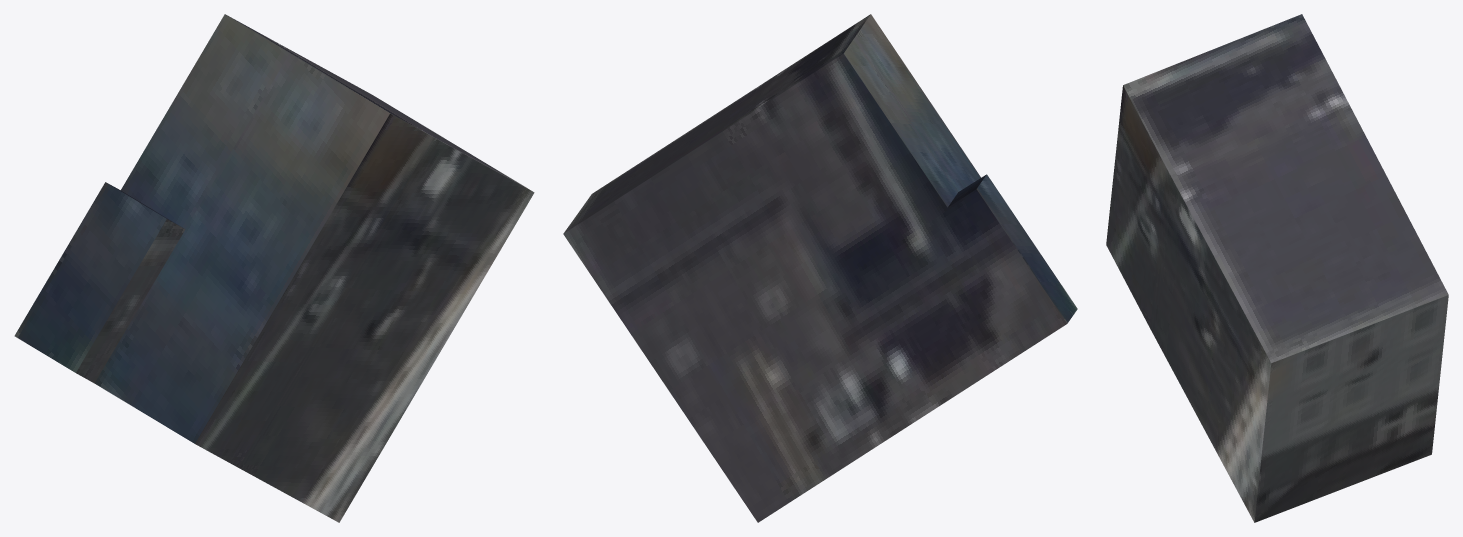
3 views of the same model, side by side, from view 1: azimuth 30°, elevation 25°; view 2: azimuth 150°, elevation 25°; view 3: azimuth 270°, elevation 25° (orthographic). The views are drawn at different scales.
Parts seen in each view (by area): view 1: BAG_0599100000682965 (×2); view 2: BAG_0599100000682965 (×2); view 3: BAG_0599100000682965.
Part boxes in pixels (x1,y1,x2,y2): BAG_0599100000682965 (×2): (14, 14, 534, 522); BAG_0599100000682965 (×2): (563, 14, 1077, 522); BAG_0599100000682965: (1106, 14, 1448, 522).
Bounding box in the file's own units: 16.3 × 15.3 × 10.12.
Materials: 3 (2 with a texture image).
